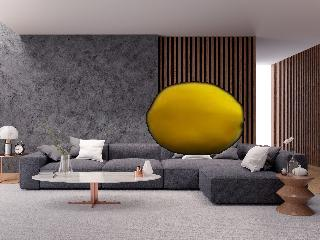lemon: (148, 82, 244, 153)
